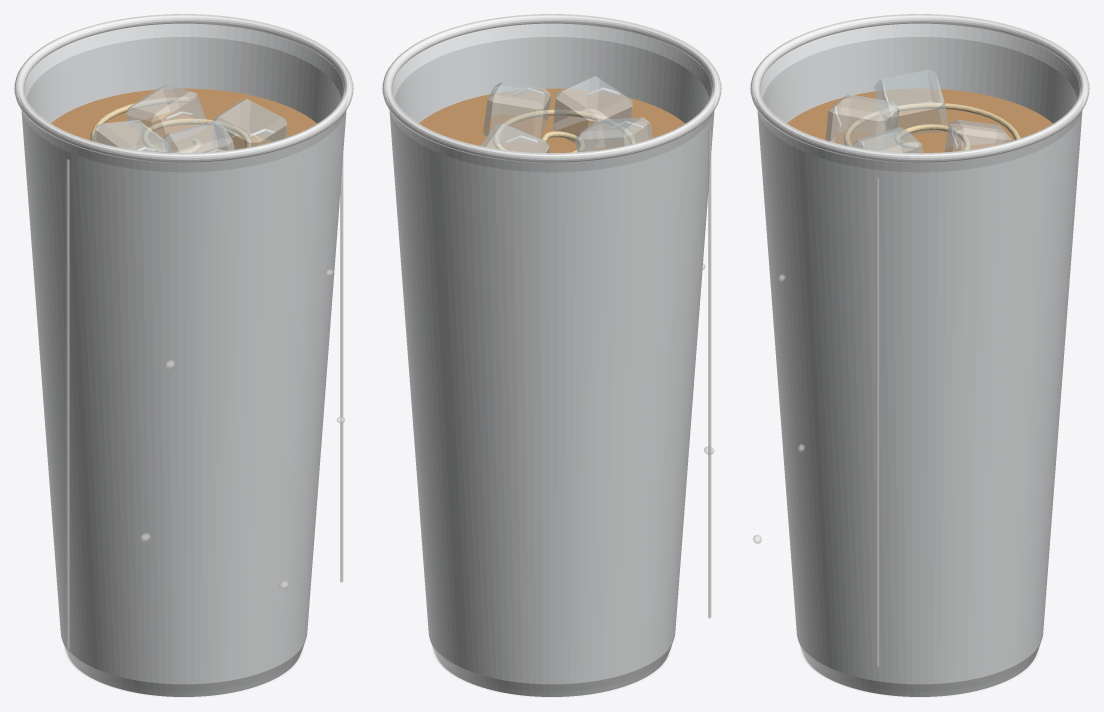
File: butterscotch-latte.glb
3 renders of one model, left to right at view 1: azimuth 30°, elevation 25°; view 2: azimuth 150°, elevation 25°; view 3: azimuth 270°, elevation 25°, orthographic.
Visible parts, largest first — view 1: Very clear glass wall, Liquid surface, Glass top rim, Translucent ice cube 04, Translucent ice cube 03, Glass edge highlight left, Translucent ice cube 01, Translucent ice cube 02, Cream and syrup surface swirl, Glass edge highlight right; view 2: Very clear glass wall, Liquid surface, Glass top rim, Translucent ice cube 02, Translucent ice cube 03, Translucent ice cube 01, Glass edge highlight left, Cream and syrup surface swirl, Translucent ice cube 04; view 3: Very clear glass wall, Liquid surface, Glass top rim, Translucent ice cube 01, Translucent ice cube 02, Cream and syrup surface swirl, Glass edge highlight right, Translucent ice cube 04, Translucent ice cube 03.
Boxes of the visible parts, x1,y1,x2,y2 form: Very clear glass wall: (18,16,349,696); Liquid surface: (51,88,316,152); Glass top rim: (14,14,353,162); Translucent ice cube 04: (126,84,206,138); Translucent ice cube 03: (211,99,287,149); Glass edge highlight left: (66,159,69,649); Translucent ice cube 01: (92,120,171,152); Translucent ice cube 02: (162,120,234,152); Cream and syrup surface swirl: (90,97,251,152); Glass edge highlight right: (340,155,343,582); Very clear glass wall: (386,16,717,696); Liquid surface: (419,88,684,152); Glass top rim: (382,14,721,162); Translucent ice cube 02: (553,76,632,143); Translucent ice cube 03: (483,81,550,138); Translucent ice cube 01: (575,117,652,152); Glass edge highlight left: (708,128,711,618); Cream and syrup surface swirl: (493,109,635,152); Translucent ice cube 04: (480,123,549,152); Very clear glass wall: (754,16,1085,696); Liquid surface: (787,89,1052,152); Glass top rim: (750,14,1089,162); Translucent ice cube 01: (874,70,948,134); Translucent ice cube 02: (825,94,899,146); Cream and syrup surface swirl: (844,102,1020,150); Glass edge highlight right: (876,177,879,667); Translucent ice cube 04: (944,119,1011,151); Translucent ice cube 03: (852,127,923,152).
Size of the model in its own units: 0.616 by 1.13 by 0.616.
